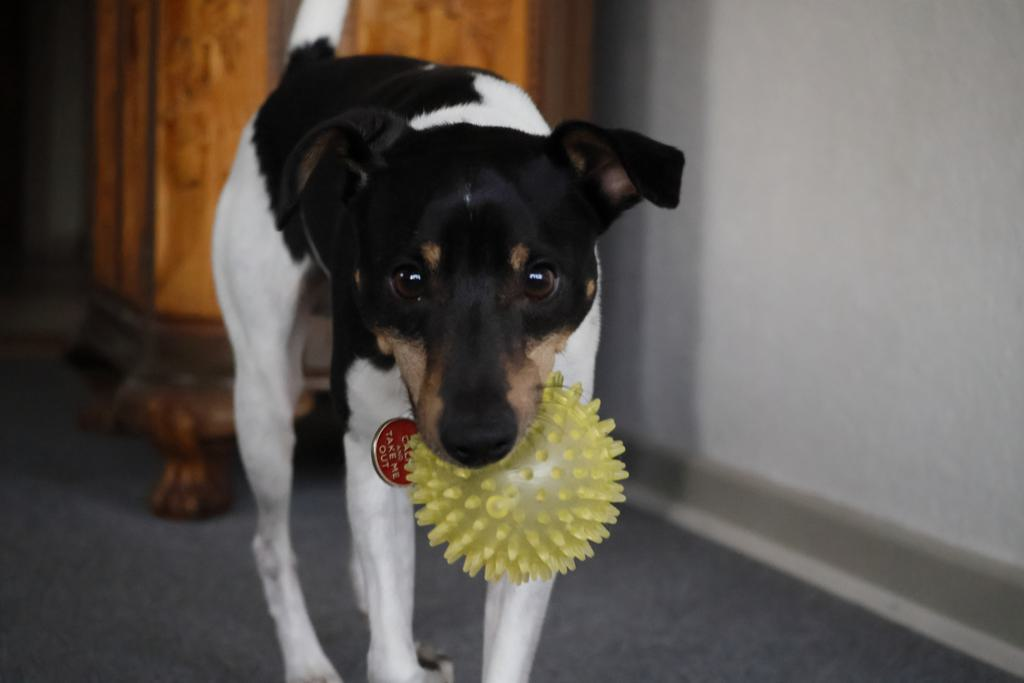Dog: (197, 0, 695, 683)
